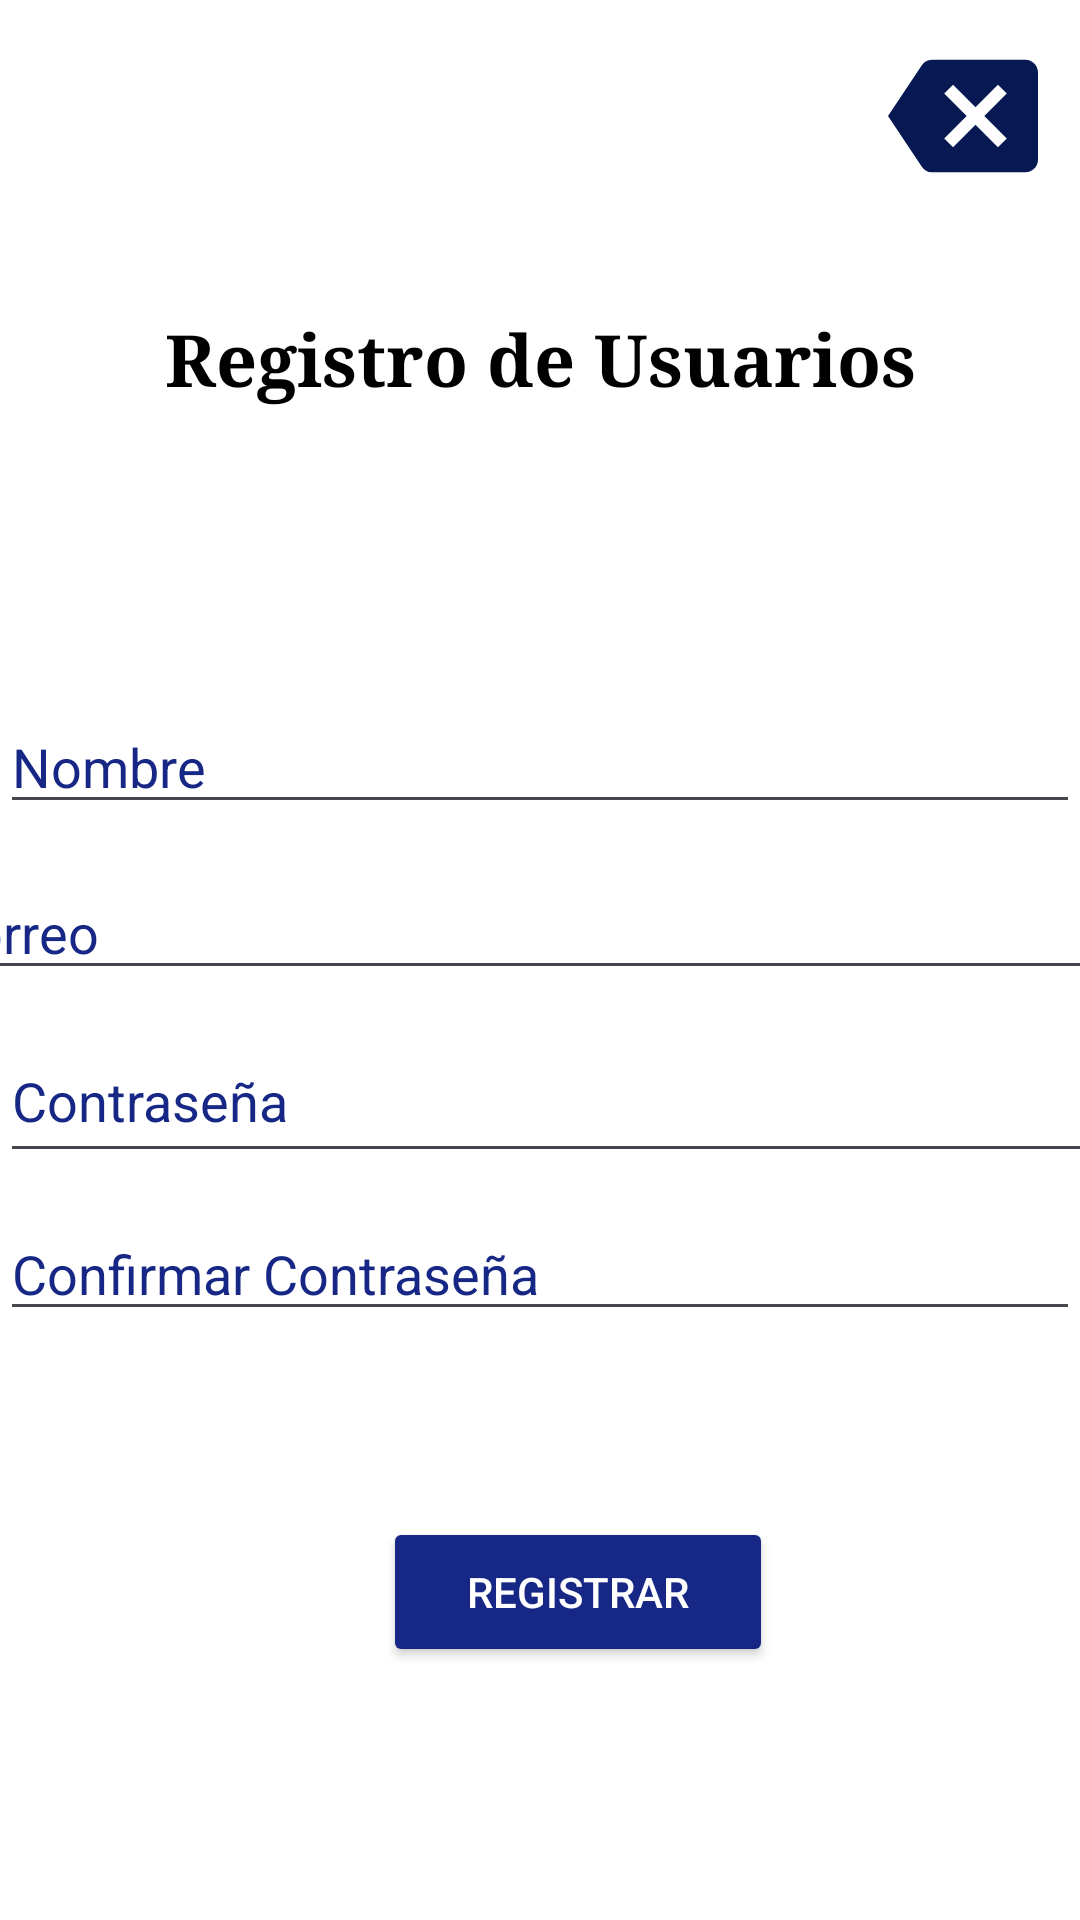

Locate icon controls on the screen. Image size 1080px×1920px, boxes as bbox=(x1, y1, x2, y2).
backspace: bbox=(888, 59, 1038, 173)
